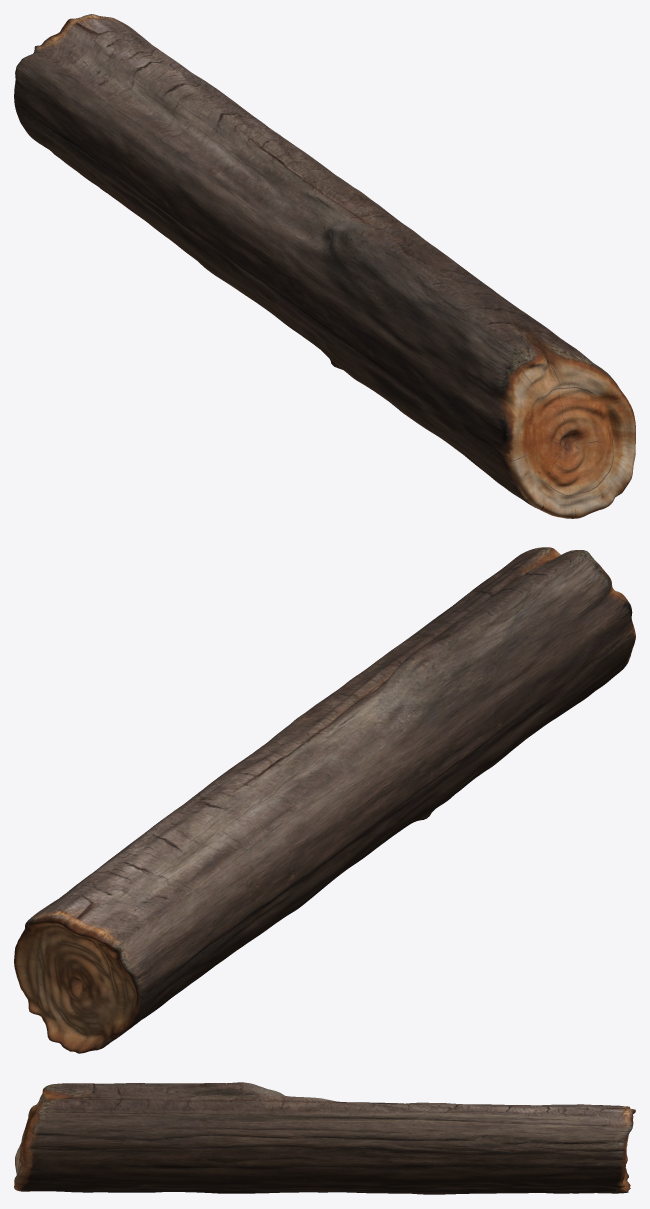
The model's file is WoodLog1.fbx.
3 renders of one model, top to bottom at view 1: azimuth 30°, elevation 25°; view 2: azimuth 150°, elevation 25°; view 3: azimuth 270°, elevation 25°, orthographic. The views are drawn at different scales.
Parts seen in each view (by area): view 1: woodenLog1; view 2: woodenLog1; view 3: woodenLog1.
Part boxes in pixels (x1,y1,x2,y2): woodenLog1: (14,14,635,518); woodenLog1: (14,547,635,1053); woodenLog1: (14,1082,635,1194).
Bounding box in the file's own units: 61.82 × 74.58 × 419.
Materials: 1 (1 with a texture image).
